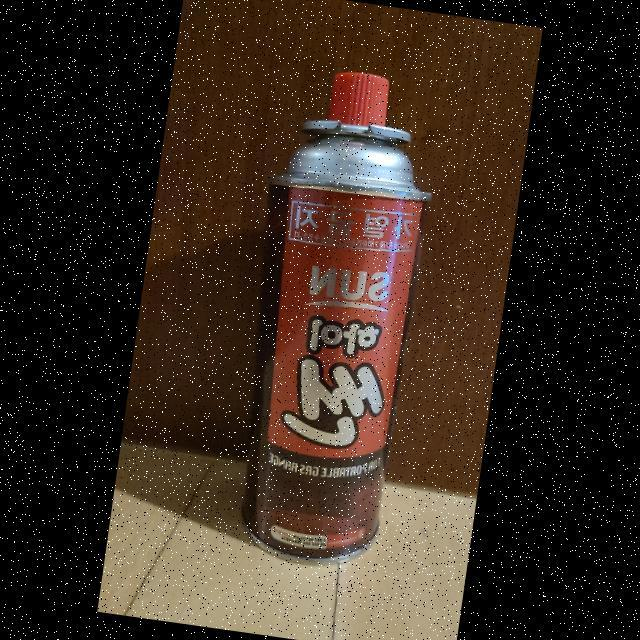chemical_spray_can: (216, 48, 462, 584)
